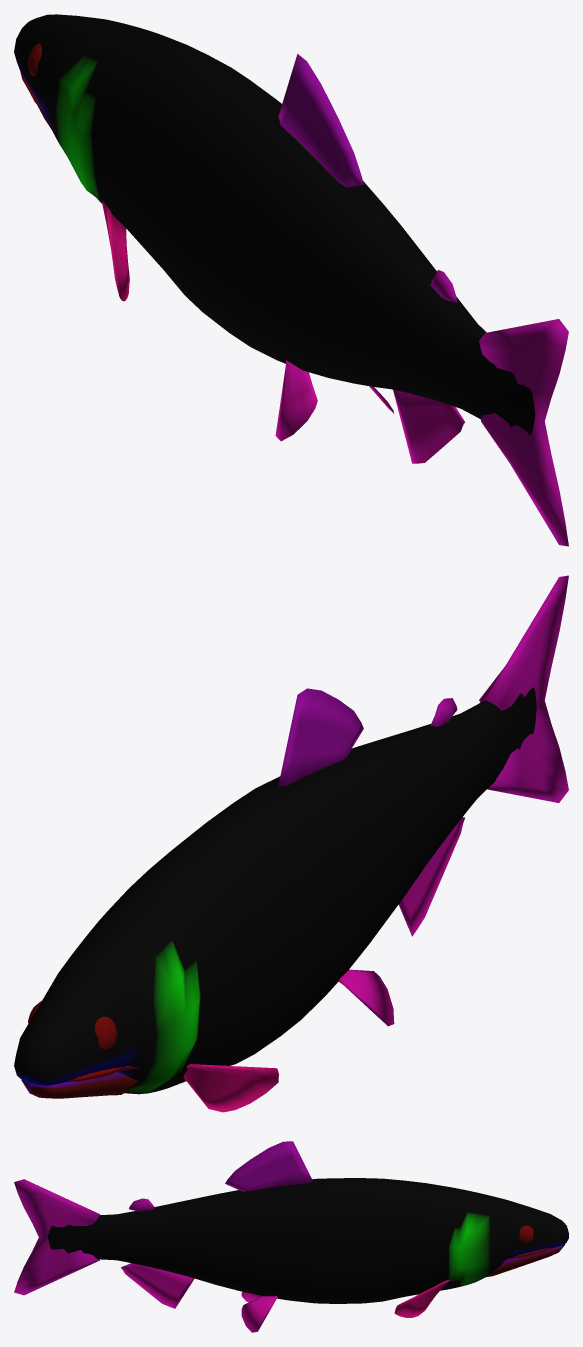
The model's file is sockeye_spawner_female_game.glb.
The picture shows the model from 3 angles, top to bottom: view 1: azimuth 30°, elevation 25°; view 2: azimuth 150°, elevation 25°; view 3: azimuth 270°, elevation 25°; orthographic projection. The views are drawn at different scales.
Visible parts, largest first — view 1: sockeye_spawner_female_game; view 2: sockeye_spawner_female_game; view 3: sockeye_spawner_female_game.
Part boxes in pixels (x1,y1,x2,y2): sockeye_spawner_female_game: (14, 14, 568, 546); sockeye_spawner_female_game: (14, 575, 568, 1112); sockeye_spawner_female_game: (14, 1141, 568, 1332).
Bounding box in the file's own units: 0.1037 × 0.2103 × 0.5968.
